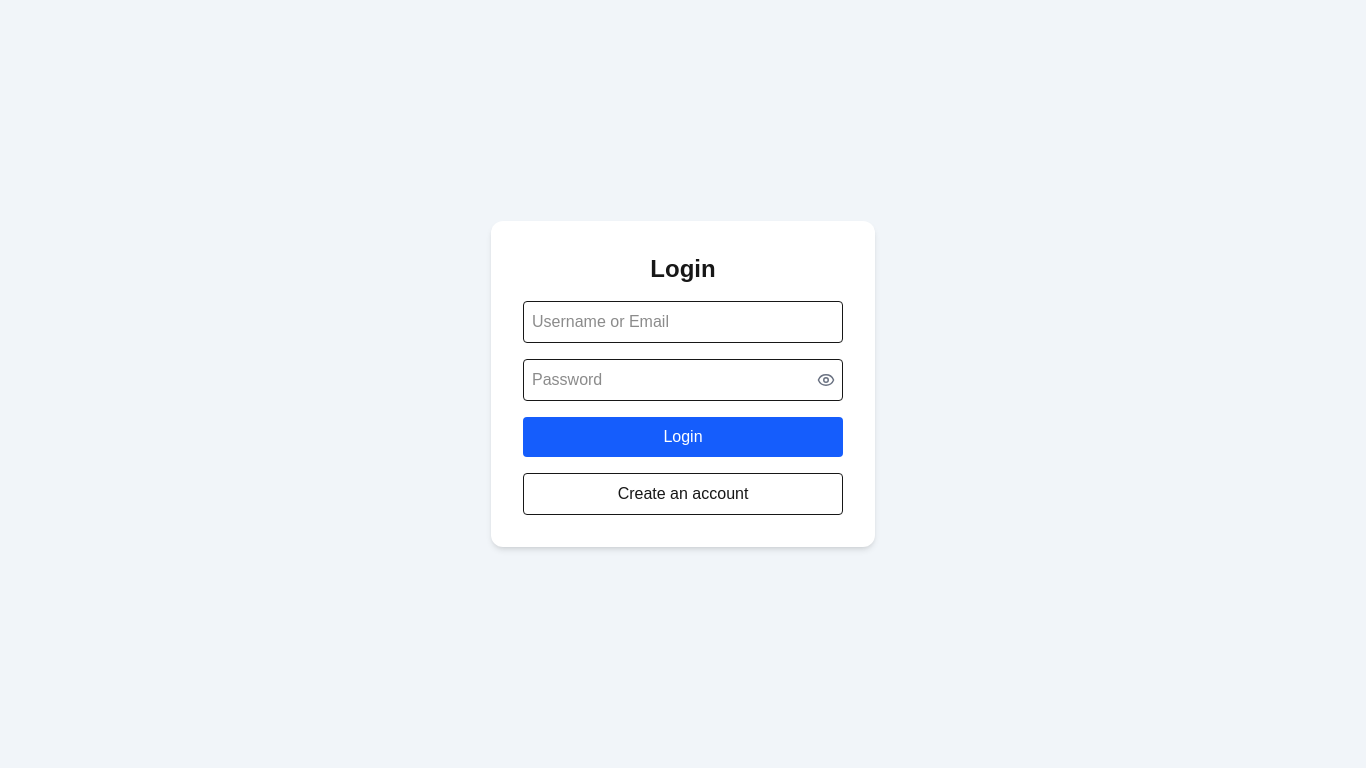
LoginPage › opens and closes the registration modal
This screenshot has width=1366, height=768.
Click the button "Create an account".
click(683, 494)  # box [523,473,843,515]
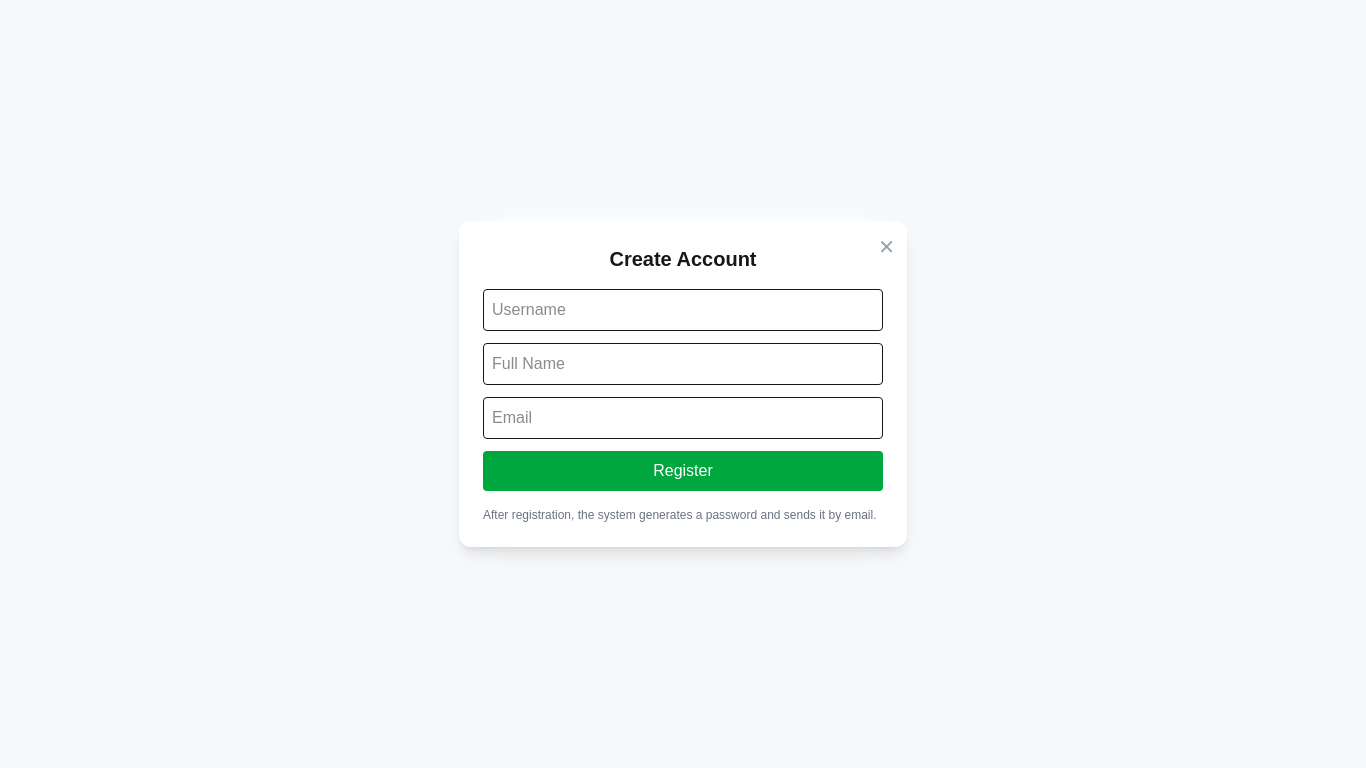
Expected: the heading "Create Account" is shown, [610,248,757,270]
Click the button named "close".
click(887, 247)  # box [878,233,895,261]
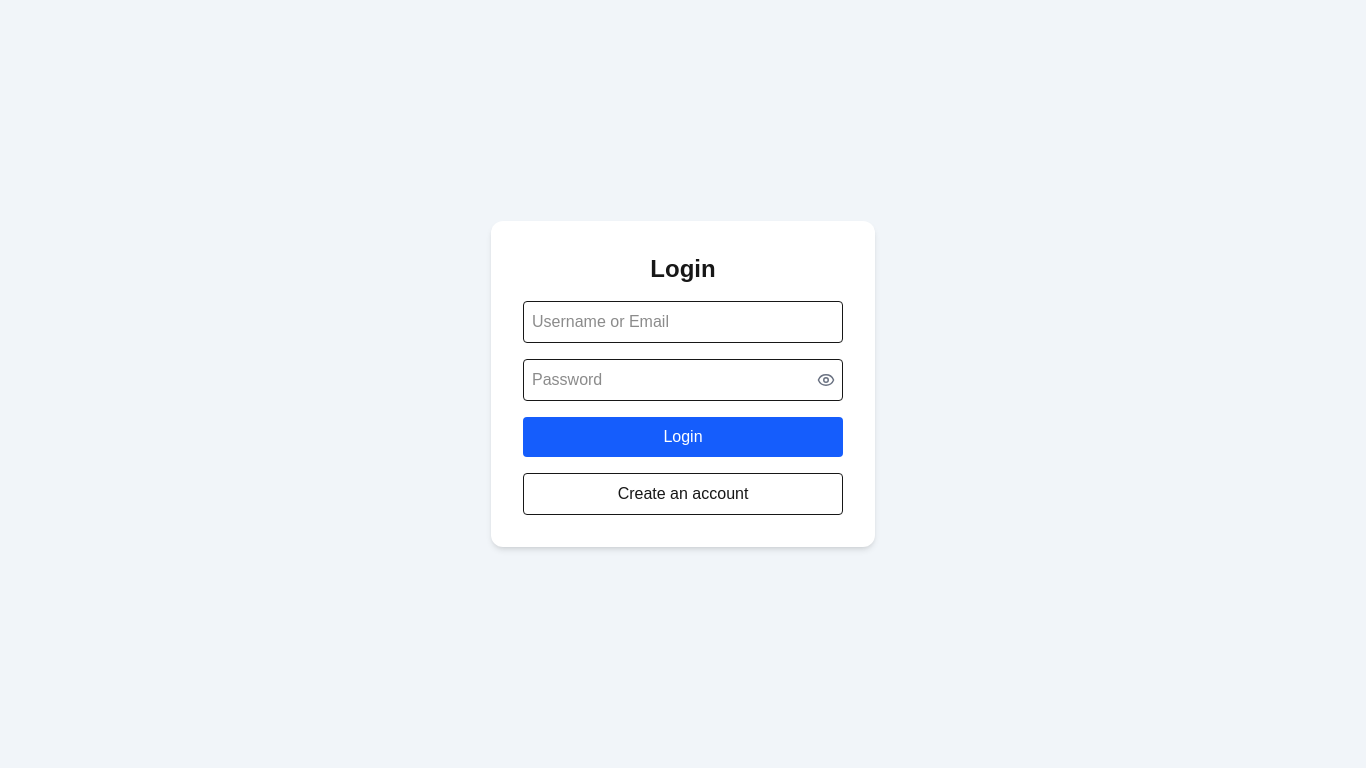
Expected: the heading "Create Account" is gone
